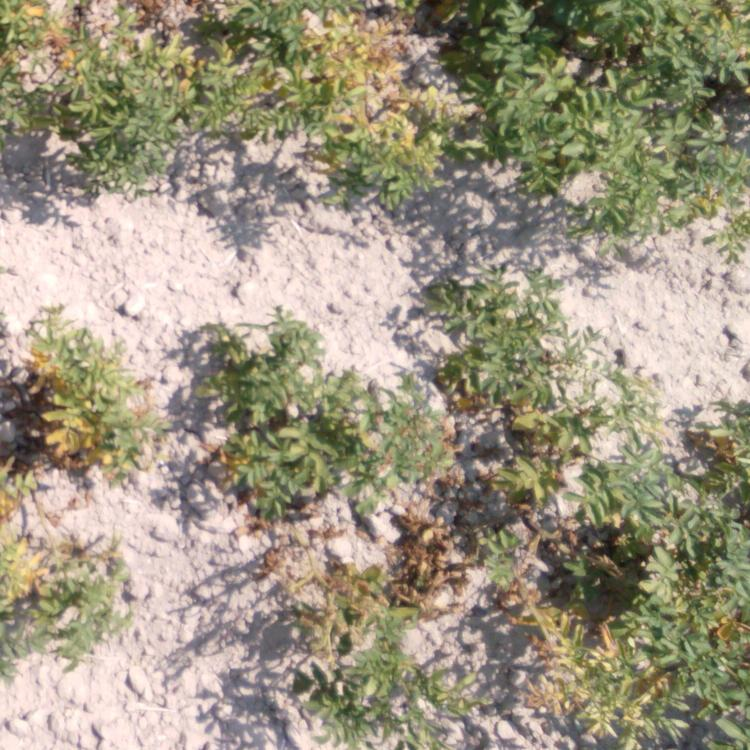healthy: (472, 2, 628, 129), (636, 113, 739, 252), (491, 138, 626, 227), (641, 5, 750, 109)
stressed: (290, 520, 439, 738), (573, 441, 746, 626), (202, 338, 388, 497), (503, 635, 750, 741), (439, 279, 590, 427), (16, 306, 139, 486), (316, 94, 463, 219), (452, 442, 554, 613), (64, 28, 170, 192), (191, 1, 299, 146), (1, 545, 119, 675), (311, 3, 441, 77), (2, 1, 57, 117)
